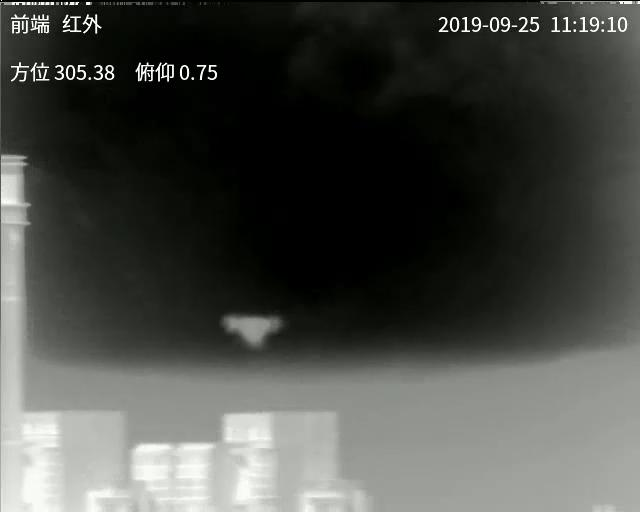uav: (232, 312, 288, 349)
